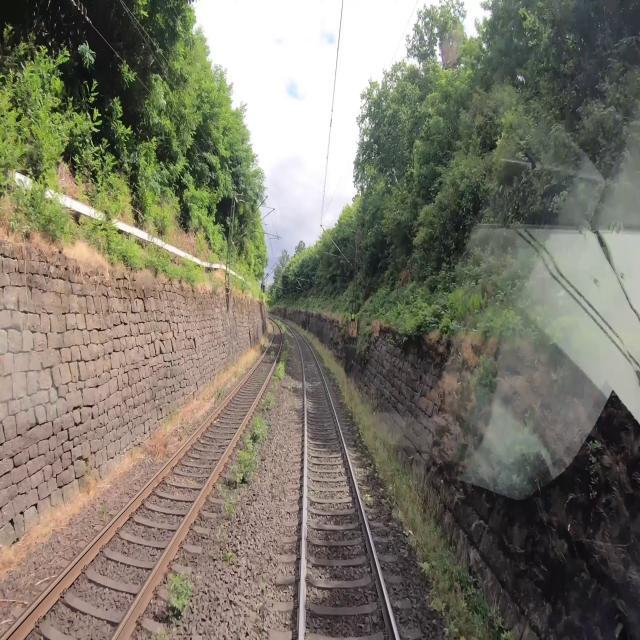Plant: (232, 415, 268, 489), (165, 570, 193, 620), (272, 337, 290, 390), (262, 392, 276, 414), (150, 625, 165, 639), (223, 548, 234, 566), (223, 499, 234, 516), (215, 387, 226, 401)
